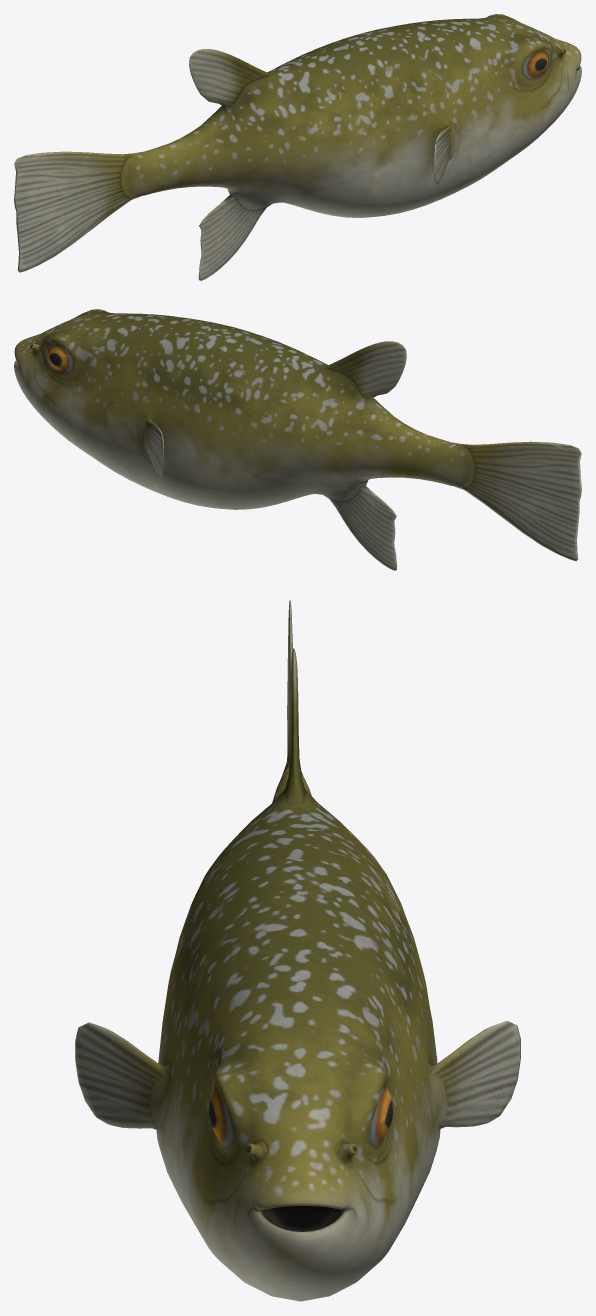
File: PufferFish.glb
3 renders of one model, top to bottom at view 1: azimuth 30°, elevation 25°; view 2: azimuth 150°, elevation 25°; view 3: azimuth 270°, elevation 25°, orthographic. The views are drawn at different scales.
Parts seen in each view (by area): view 1: PufferFish_hover 4; view 2: PufferFish_hover 4; view 3: PufferFish_hover 4.
Boxes of the visible parts, <box> form: PufferFish_hover 4: <box>14,14,581,280</box>; PufferFish_hover 4: <box>14,309,581,570</box>; PufferFish_hover 4: <box>75,600,520,1301</box>.
Bounding box in the file's own units: 4.98 × 1.94 × 1.71.
1 material, 1 textured.
